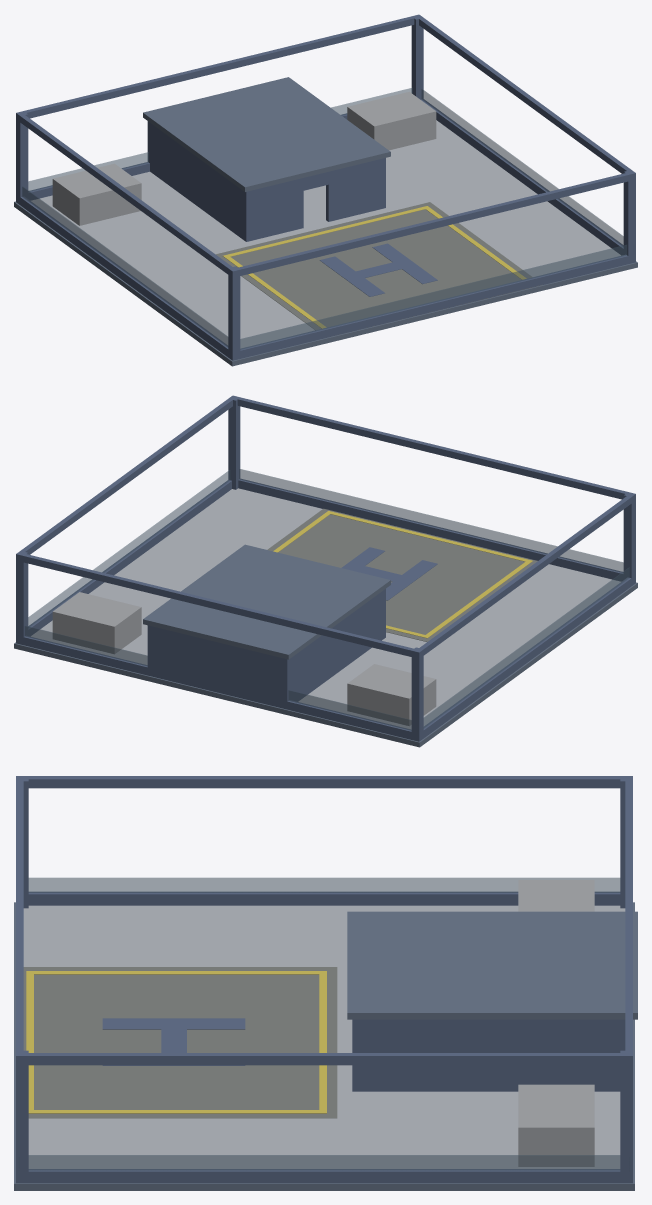
File: office-roof-a.skyline-v4.lod1.glb
3 renders of one model, top to bottom at view 1: azimuth 30°, elevation 25°; view 2: azimuth 150°, elevation 25°; view 3: azimuth 270°, elevation 25°, orthographic. The views are drawn at different scales.
Parts seen in each view (by area): view 1: office-roof-a; view 2: office-roof-a; view 3: office-roof-a.
Boxes of the visible parts, x1=… form: office-roof-a: x1=14, y1=14, x2=637, y2=366; office-roof-a: x1=14, y1=395, x2=637, y2=747; office-roof-a: x1=14, y1=776, x2=637, y2=1190.
Size of the model in its own units: 26.16 by 5.8 by 24.48.
